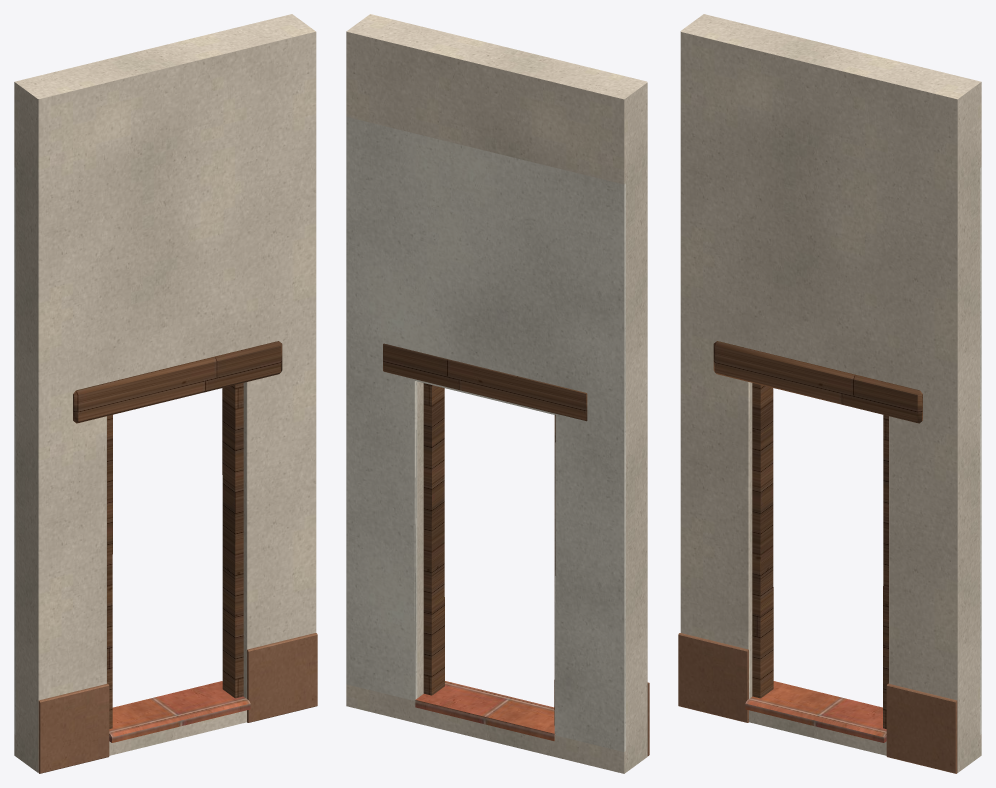
Rendered from m_wall_side_door.glb.
3 views of the same model, side by side, from view 1: azimuth 30°, elevation 25°; view 2: azimuth 150°, elevation 25°; view 3: azimuth 330°, elevation 25° (orthographic).
Visible parts, largest first — view 1: m_wall_side_door_render, m_wall_side_door_wood, m_wall_side_door_plinth, m_wall_side_door_saltillo, m_wall_side_door_plaster; view 2: m_wall_side_door_plaster, m_wall_side_door_render, m_wall_side_door_wood, m_wall_side_door_saltillo; view 3: m_wall_side_door_render, m_wall_side_door_wood, m_wall_side_door_plinth, m_wall_side_door_saltillo, m_wall_side_door_plaster.
Boxes of the visible parts, x1,y1,x2,y2 form: m_wall_side_door_render: (14,14,316,772); m_wall_side_door_wood: (73,341,282,728); m_wall_side_door_plinth: (38,633,317,773); m_wall_side_door_saltillo: (109,681,250,742); m_wall_side_door_plaster: (14,167,15,734); m_wall_side_door_plaster: (346,117,625,751); m_wall_side_door_render: (346,14,647,773); m_wall_side_door_wood: (383,343,587,725); m_wall_side_door_saltillo: (415,681,555,740); m_wall_side_door_render: (680,14,981,772); m_wall_side_door_wood: (713,341,922,728); m_wall_side_door_plinth: (678,633,957,773); m_wall_side_door_saltillo: (745,681,886,742); m_wall_side_door_plaster: (980,167,981,734).
Bounding box in the file's own units: 2 × 4.64 × 0.355.
Materials: 5 (5 with a texture image).
